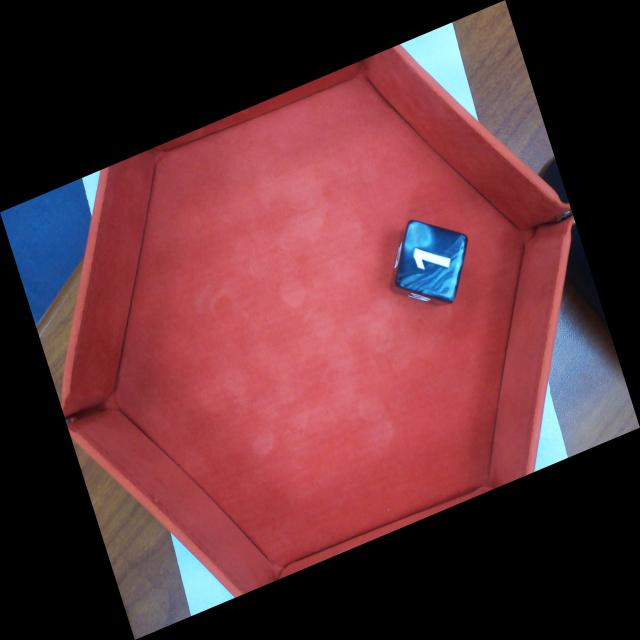dice: (396, 220, 467, 303)
